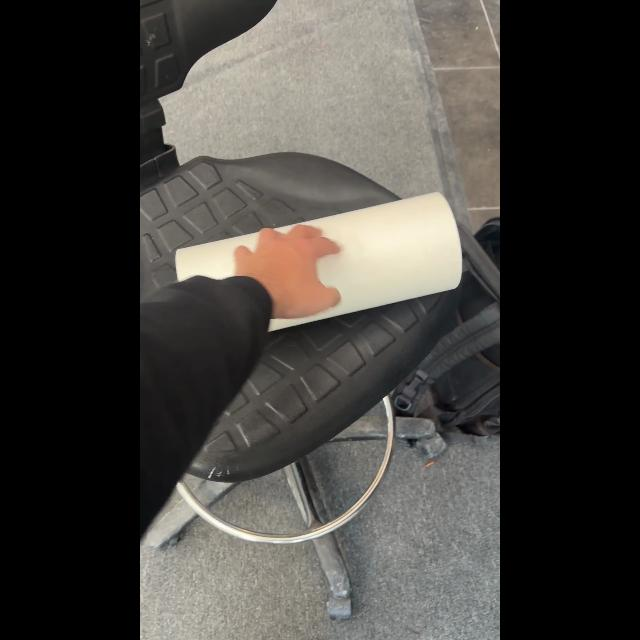CORAL: (174, 190, 462, 332)
